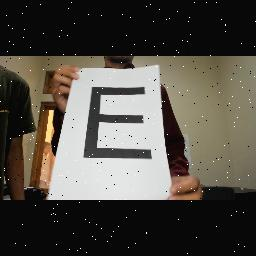e: (84, 82, 152, 170)
